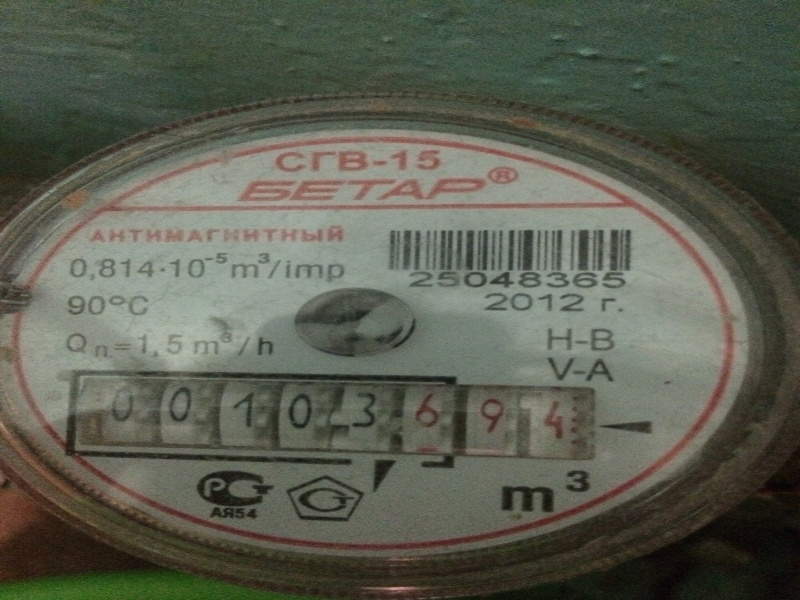meter: (73, 378, 584, 452)
